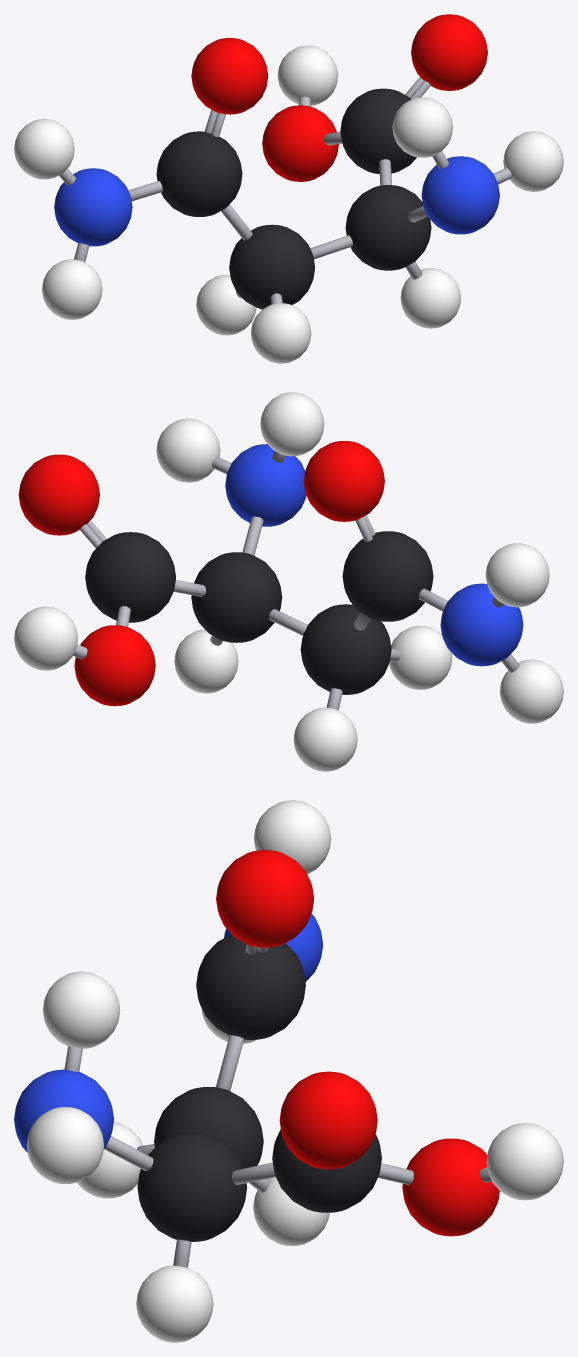
File: asparagine.glb
3 views of the same model, one above another, from view 1: azimuth 30°, elevation 25°; view 2: azimuth 150°, elevation 25°; view 3: azimuth 270°, elevation 25° (orthographic). The views are drawn at different scales.
Parts seen in each view (by area): view 1: C3, C1, C2, N0, N4, O5, O7, O8, C6, H9, H13, H15 (+7 smaller); view 2: C3, C6, C1, C2, O5, O7, O8, N4, N0, H12, H9, H16 (+7 smaller); view 3: C1, C3, O7, O5, O8, C2, C6, H16, H11, H10, H9, N0 (+6 smaller).
Part boxes in pixels (<box>): C3: <box>156,131,242,216</box>; C1: <box>345,185,431,270</box>; C2: <box>229,224,314,309</box>; N0: <box>421,156,499,234</box>; N4: <box>54,168,132,246</box>; O5: <box>191,38,268,114</box>; O7: <box>411,14,487,90</box>; O8: <box>262,105,338,181</box>; C6: <box>340,88,416,173</box>; H9: <box>392,97,452,157</box>; H13: <box>250,303,311,363</box>; H15: <box>14,119,74,179</box>; C3: <box>342,531,433,621</box>; C6: <box>85,532,175,622</box>; C1: <box>191,552,282,642</box>; C2: <box>300,604,391,694</box>; O5: <box>303,441,384,521</box>; O7: <box>18,454,99,535</box>; O8: <box>74,625,155,706</box>; N4: <box>440,583,523,666</box>; N0: <box>225,444,306,526</box>; H12: <box>293,707,357,771</box>; H9: <box>260,392,324,456</box>; H16: <box>14,606,78,670</box>; C1: <box>137,1132,247,1241</box>; C3: <box>196,934,305,1039</box>; O7: <box>279,1071,377,1169</box>; O5: <box>216,850,313,947</box>; O8: <box>402,1138,499,1236</box>; C2: <box>154,1087,263,1168</box>; C6: <box>272,1129,381,1212</box>; H16: <box>486,1123,563,1200</box>; H11: <box>136,1265,213,1342</box>; H10: <box>26,1107,104,1183</box>; H9: <box>42,971,120,1048</box>; N0: <box>14,1069,113,1152</box>.
Size of the model in its own units: 6.55 by 3.93 by 5.11.
